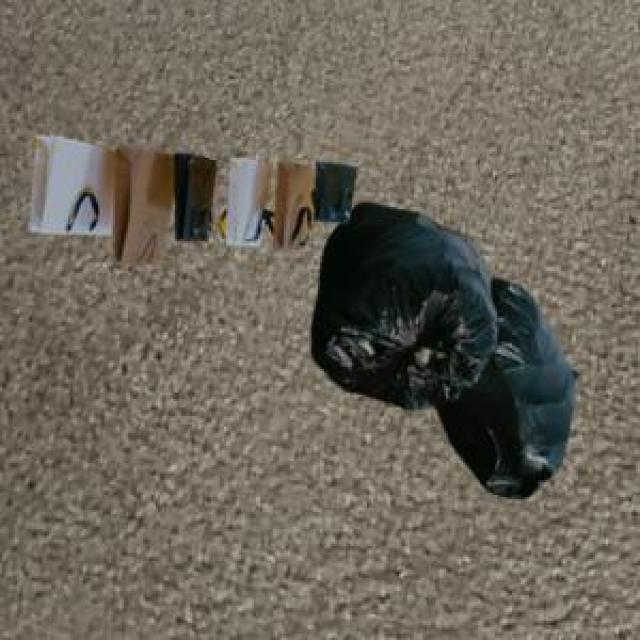miscellaneous trash: (307, 198, 574, 495)
paper: (26, 132, 352, 260)
